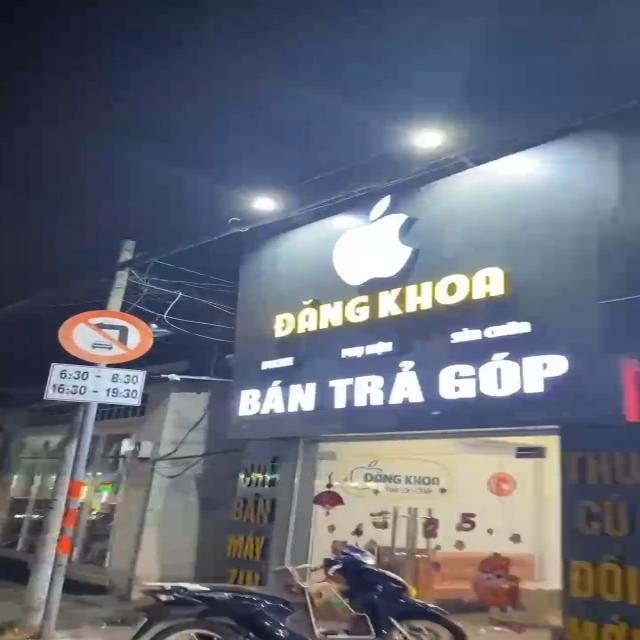123a-cam-re-trai: (58, 310, 154, 362)
